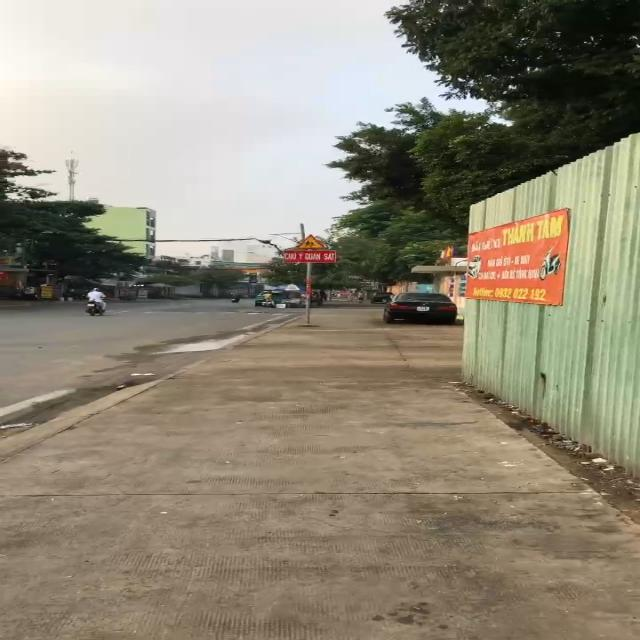Bien bao tre em: (294, 232, 325, 250)
